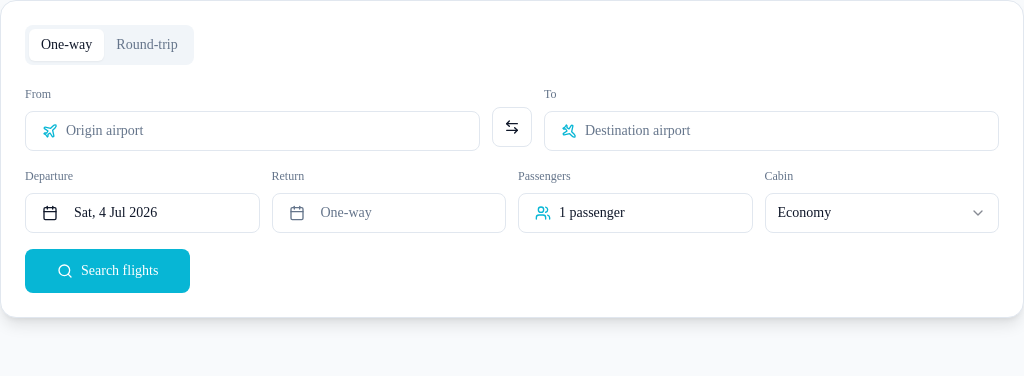
Test: SearchForm › blocks submit and shows an error when no airports are chosen
Step 1. Click the button "Search flights" → x=108, y=271, box [25,249,190,293]
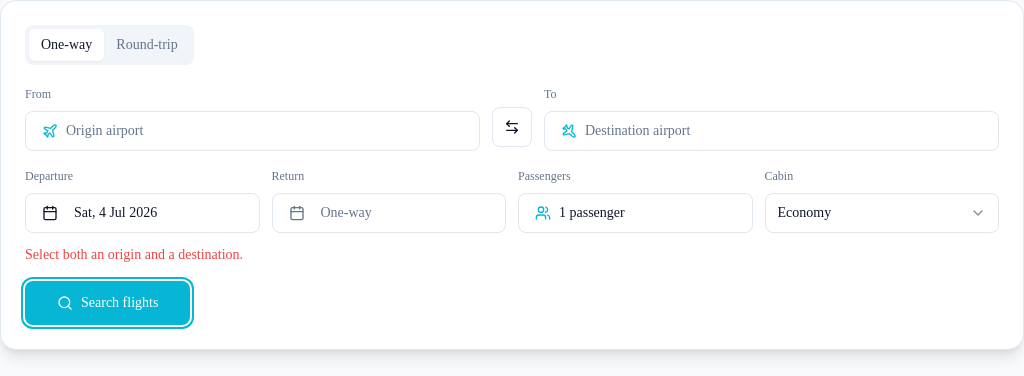
Now the text "Select both an origin and a destination." is shown, box [25,247,243,262]
